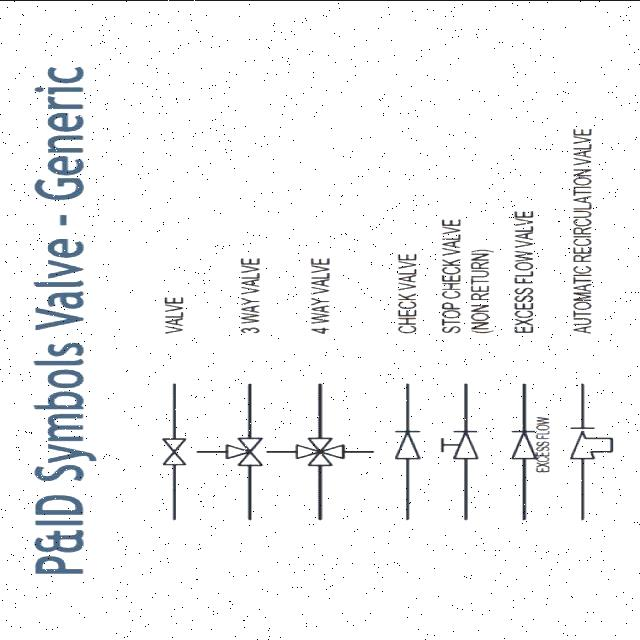3 Way Gate Valve: (216, 427, 266, 482)
4 Way Gate Valve: (276, 426, 361, 494)
Gate Valve: (137, 430, 191, 472)
